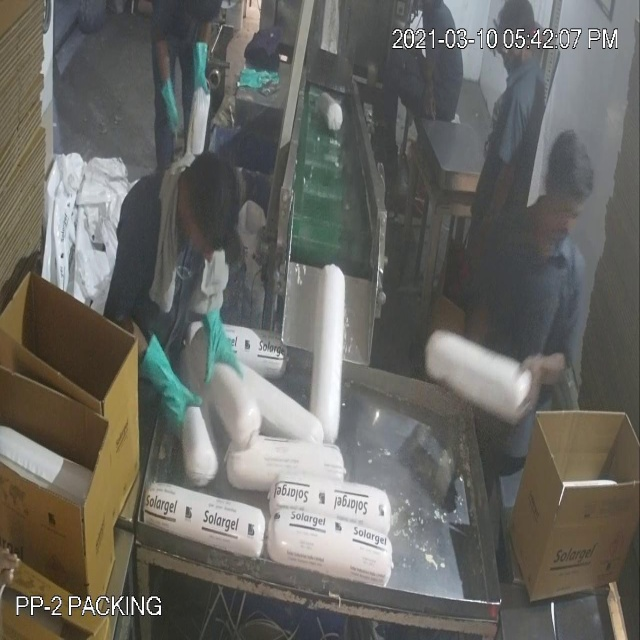Guantes: (136, 328, 208, 447), (199, 303, 247, 400), (157, 60, 185, 141), (191, 34, 215, 100)
Sin_guantes: (458, 141, 520, 284), (514, 326, 574, 428), (420, 56, 442, 131)
